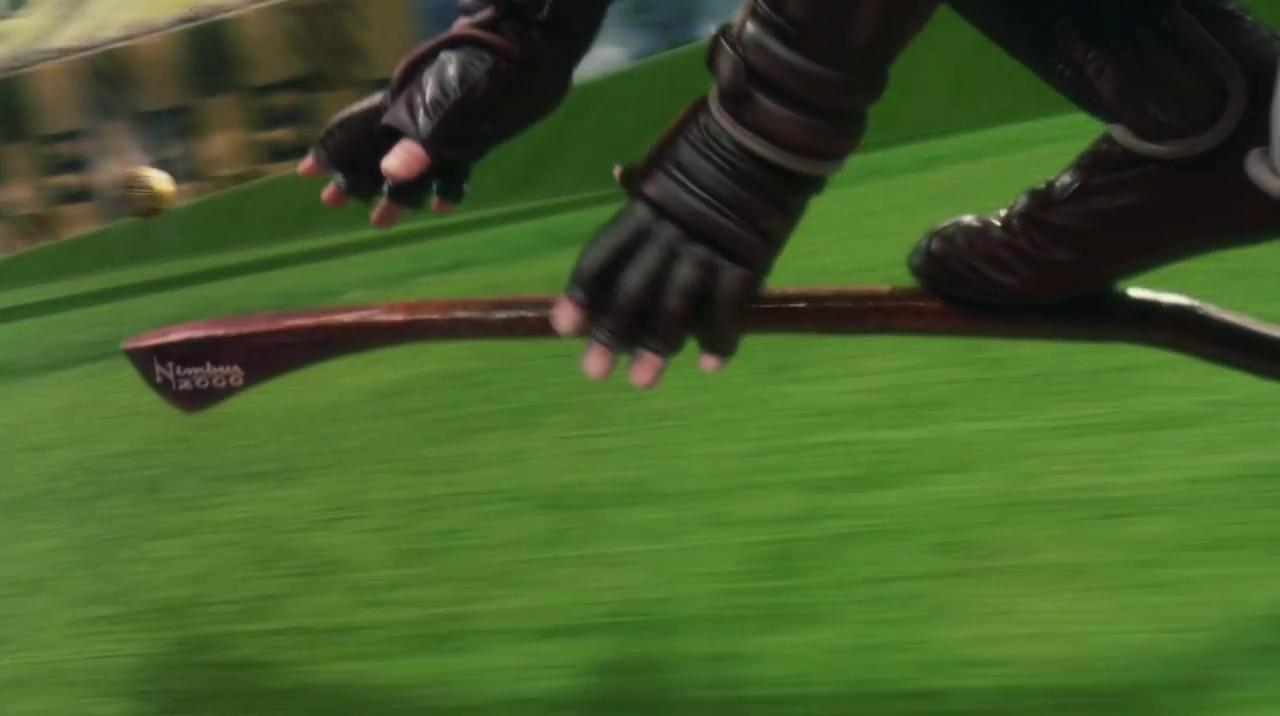snitch: (120, 166, 178, 218)
